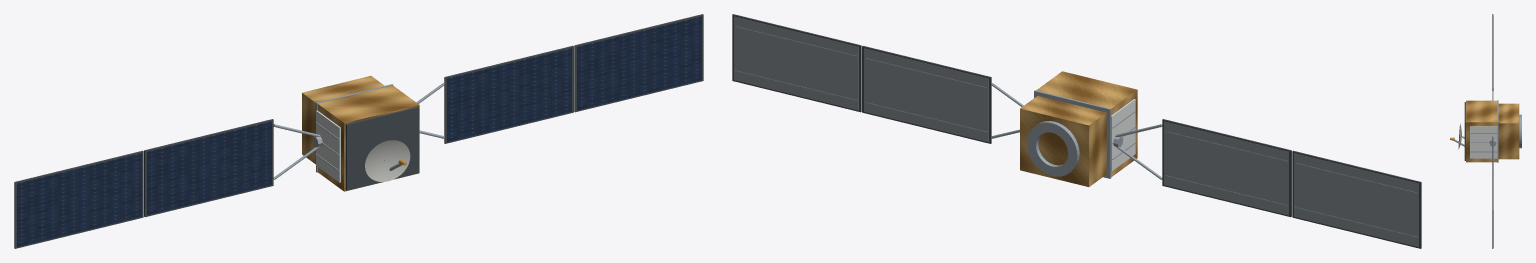
File: ref-cts-8585.glb
3 views of the same model, side by side, from view 1: azimuth 30°, elevation 25°; view 2: azimuth 150°, elevation 25°; view 3: azimuth 270°, elevation 25° (orthographic). The views are drawn at different scales.
Visible parts, largest first — view 1: Solar cell panel (×4), Solar panel frame (×4), Earth-facing deck, Payload module, Service module, Deck-mounted reflector, Radiator face; view 2: Rear array substrate (×4), Service module, Solar panel frame (×4), Payload module, Launch adapter ring, Radiator face, Module interface; view 3: Service module, Payload module, Radiator face, Solar panel frame (×4), Module interface, Earth-facing deck, Launch adapter ring, Rear array substrate, Deck-mounted reflector.
Boxes of the visible parts, x1=… form: Solar cell panel (×4): x1=17, y1=16, x2=701, y2=247; Solar panel frame (×4): x1=14, y1=14, x2=703, y2=248; Earth-facing deck: x1=345, y1=106, x2=419, y2=190; Payload module: x1=317, y1=85, x2=419, y2=191; Service module: x1=302, y1=76, x2=384, y2=164; Deck-mounted reflector: x1=365, y1=140, x2=410, y2=181; Radiator face: x1=316, y1=110, x2=340, y2=182; Rear array substrate (×4): x1=734, y1=16, x2=1418, y2=246; Service module: x1=1020, y1=95, x2=1106, y2=186; Solar panel frame (×4): x1=732, y1=14, x2=1421, y2=248; Payload module: x1=1036, y1=71, x2=1137, y2=176; Launch adapter ring: x1=1027, y1=121, x2=1079, y2=176; Radiator face: x1=1111, y1=99, x2=1135, y2=171; Module interface: x1=1034, y1=90, x2=1111, y2=178; Service module: x1=1498, y1=103, x2=1519, y2=159; Payload module: x1=1466, y1=100, x2=1497, y2=162; Radiator face: x1=1470, y1=126, x2=1497, y2=158; Solar panel frame (×4): x1=1492, y1=14, x2=1493, y2=248; Module interface: x1=1497, y1=100, x2=1498, y2=162; Earth-facing deck: x1=1464, y1=102, x2=1465, y2=160; Launch adapter ring: x1=1519, y1=114, x2=1521, y2=148; Rear array substrate: x1=1493, y1=175, x2=1493, y2=247; Deck-mounted reflector: x1=1458, y1=124, x2=1461, y2=149.
Bounding box in the file's own units: 16.47 × 1.58 × 2.55.
8 materials, 2 textured.
